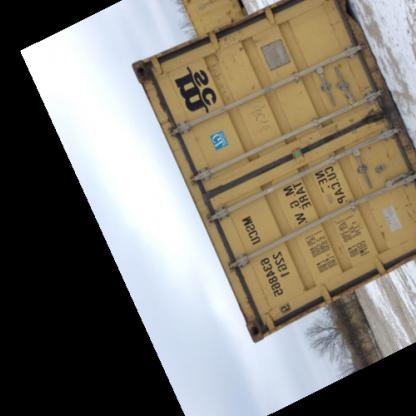Damage: (134, 60, 171, 118), (342, 98, 398, 136), (206, 54, 230, 106), (242, 100, 270, 136), (368, 215, 394, 251), (244, 311, 268, 341)
